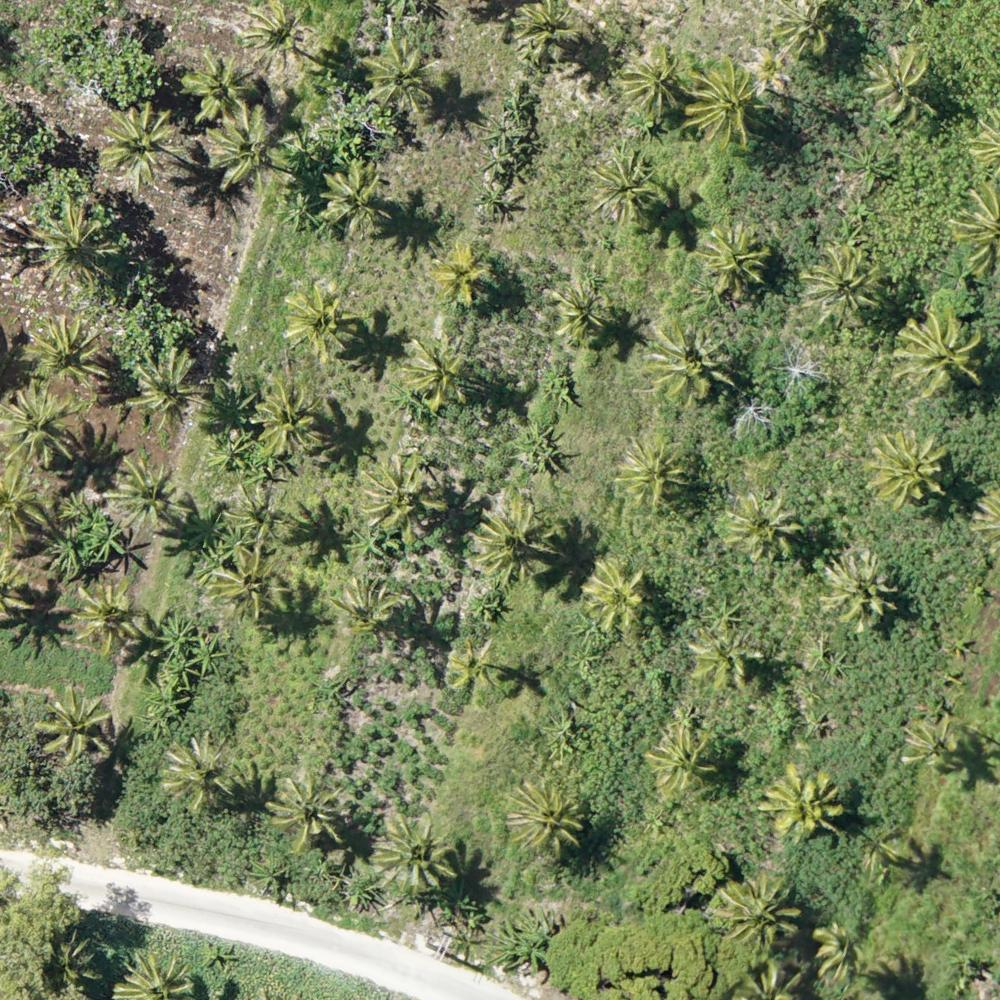Palm: (895, 310, 991, 399), (30, 195, 112, 289), (97, 105, 184, 192), (716, 871, 801, 954), (1, 383, 83, 469), (359, 455, 447, 535), (651, 318, 735, 400), (471, 505, 557, 585), (125, 348, 204, 429), (374, 813, 456, 891), (763, 761, 845, 838), (28, 315, 105, 396), (870, 429, 947, 510), (505, 783, 589, 857), (805, 242, 883, 321), (36, 688, 112, 769), (281, 283, 358, 362), (865, 46, 945, 122), (360, 40, 440, 113), (115, 454, 192, 529), (684, 62, 757, 141), (685, 623, 766, 694), (211, 108, 280, 191), (162, 735, 237, 809), (272, 776, 345, 851), (215, 544, 291, 616), (643, 725, 722, 793), (71, 578, 146, 648), (725, 491, 798, 562), (398, 339, 472, 409), (316, 164, 389, 234), (585, 149, 658, 218), (581, 558, 651, 629), (825, 555, 893, 627), (248, 2, 318, 71), (617, 48, 685, 118), (184, 49, 250, 121), (254, 385, 319, 456), (615, 440, 684, 504), (331, 580, 402, 640), (516, 1, 586, 61), (221, 483, 289, 544), (772, 2, 840, 62), (705, 228, 768, 290), (431, 248, 492, 307), (905, 711, 963, 767), (549, 283, 608, 338), (813, 923, 867, 980), (445, 642, 496, 695)
